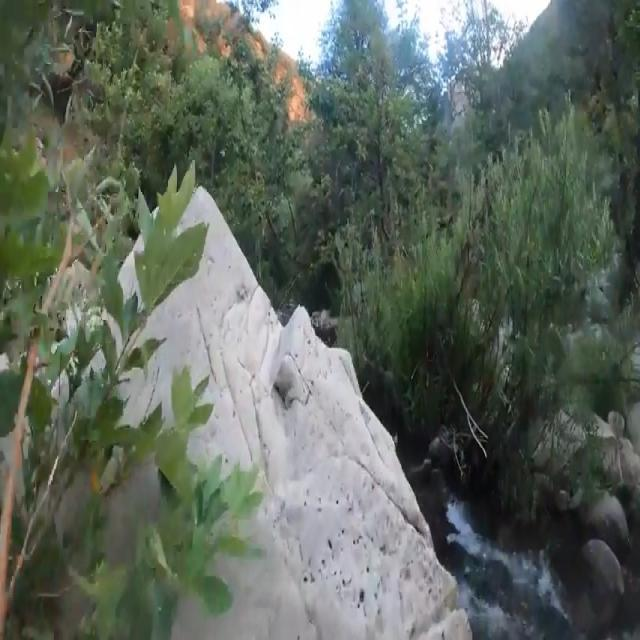Fire: (259, 30, 309, 120)
